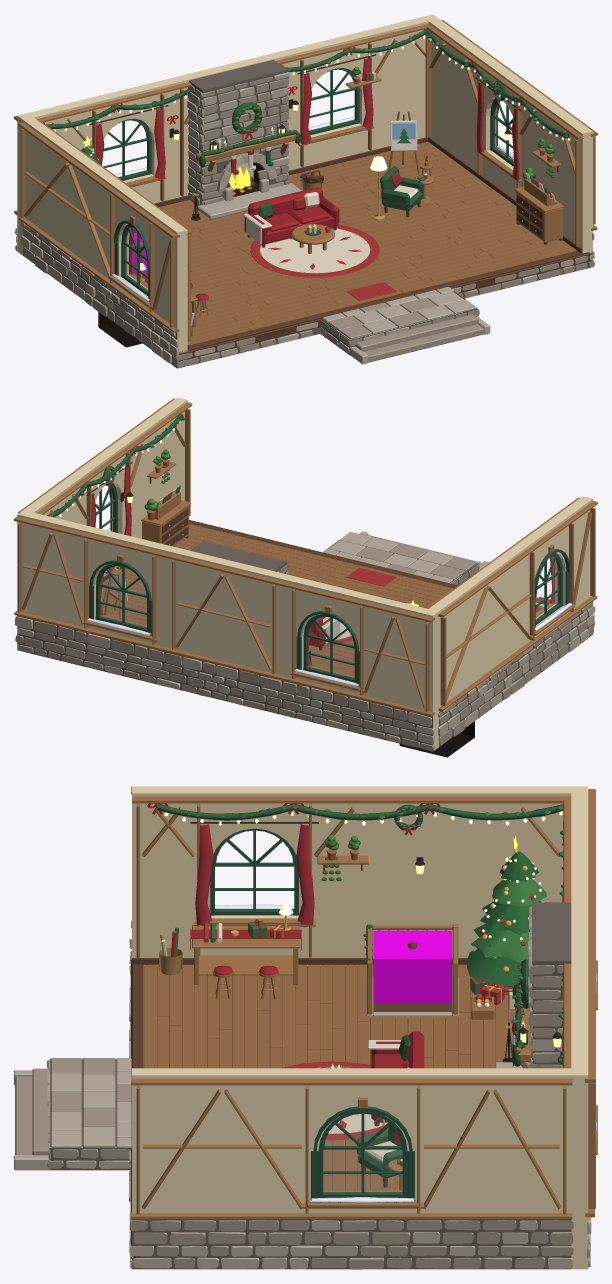
File: map-xmasin.glb
3 renders of one model, top to bottom at view 1: azimuth 30°, elevation 25°; view 2: azimuth 150°, elevation 25°; view 3: azimuth 270°, elevation 25°, orthographic. The views are drawn at different scales.
Parts seen in each view (by area): view 1: XM_In_Shell, XM_In_Floor, XM_In_Fireplace, XM_In_Windows, XM_In_Stone, XM_In_Porch, XM_In_Rug, Sofa, XM_In_Garland, XM_In_CardDresser, XM_In_Mantel_Decor, XM_In_Armchair (+10 smaller); view 2: XM_In_Shell, XM_In_Stone, XM_In_Windows, XM_In_Floor, XM_In_Porch, XM_In_CardDresser, XM_In_Fireplace, XM_In_Garland, XM_In_SillSnow, XM_In_Stairwell, Sofa, XM_In_Shelves (+2 smaller); view 3: XM_In_Shell, XM_In_Floor, XM_In_Stone, XM_In_Windows, XM_In_Porch, XM_In_Tree, XM_In_Fireplace, XM_In_GiftBench, COL_Stairwell, XM_In_Garland, XM_In_Stairwell, Sofa (+6 smaller).
Part boxes in pixels (x1,y1,x2,y2): XM_In_Shell: (14, 14, 597, 368); XM_In_Floor: (159, 141, 592, 361); XM_In_Fireplace: (187, 60, 296, 205); XM_In_Windows: (89, 54, 521, 306); XM_In_Stone: (15, 222, 594, 367); XM_In_Porch: (320, 286, 483, 362); XM_In_Rug: (250, 224, 379, 277); Sofa: (243, 187, 339, 247); XM_In_Garland: (43, 29, 570, 140); XM_In_CardDresser: (514, 167, 564, 244); XM_In_Mantel_Decor: (199, 102, 300, 174); XM_In_Armchair: (373, 166, 434, 219); XM_In_Shell: (14, 397, 597, 751); XM_In_Stone: (15, 531, 595, 751); XM_In_Windows: (84, 462, 574, 690); XM_In_Floor: (100, 523, 592, 675); XM_In_Porch: (322, 532, 481, 585); XM_In_CardDresser: (141, 485, 190, 546); XM_In_Fireplace: (190, 541, 288, 574); XM_In_Garland: (47, 413, 184, 517); XM_In_SillSnow: (87, 528, 572, 686); XM_In_Stairwell: (399, 721, 474, 757); Sofa: (309, 617, 340, 650); XM_In_Shelves: (104, 449, 176, 575); XM_In_Shell: (131, 786, 595, 1269); XM_In_Floor: (131, 959, 515, 1258); XM_In_Stone: (14, 939, 591, 1269); XM_In_Windows: (190, 821, 597, 1207); XM_In_Porch: (15, 1058, 131, 1170); XM_In_Tree: (467, 835, 546, 1009); XM_In_Fireplace: (515, 902, 571, 1068); XM_In_GiftBench: (159, 915, 301, 999); COL_Stairwell: (373, 930, 451, 1003); XM_In_Garland: (147, 803, 563, 1061); XM_In_Stairwell: (363, 924, 458, 1018); Sofa: (368, 1031, 424, 1126).
Bounding box in the file's own units: 12.34 × 5.1 × 10.24.
